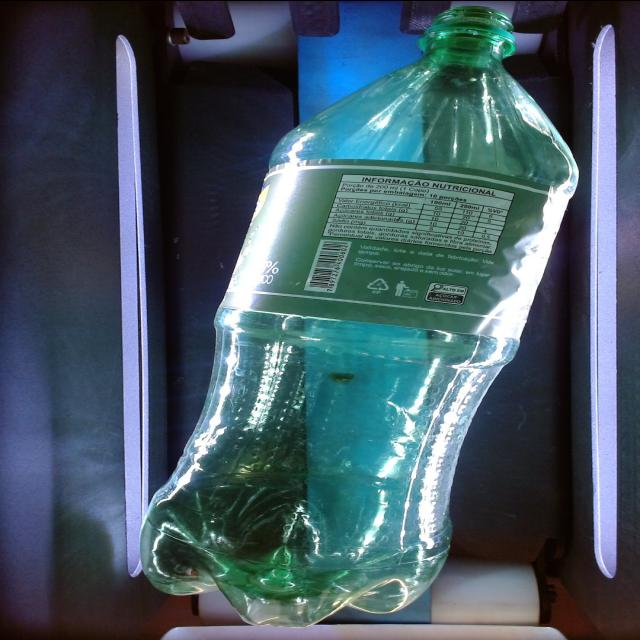bottle: (142, 7, 578, 625)
